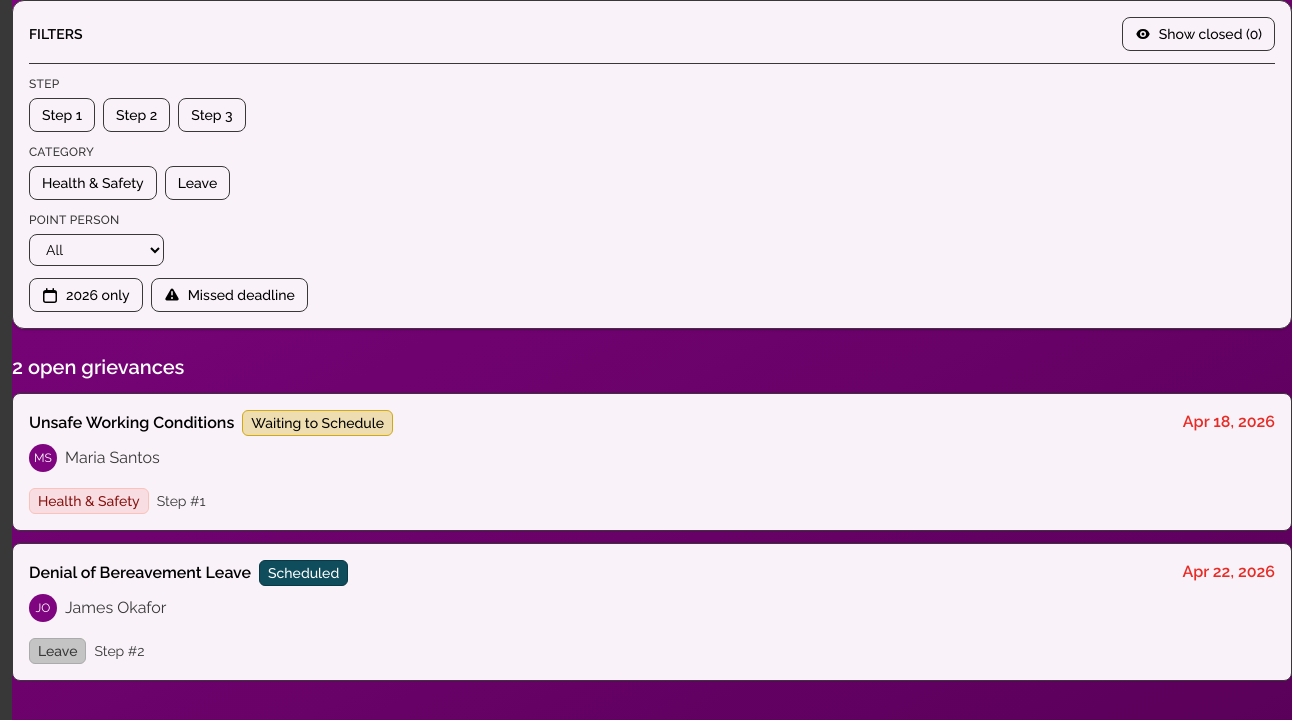
Test: GrievanceFilterView › category filter › filters grievances to the selected category
Step 1. Click the button "Health & Safety" → (93, 183), box [29, 166, 157, 200]
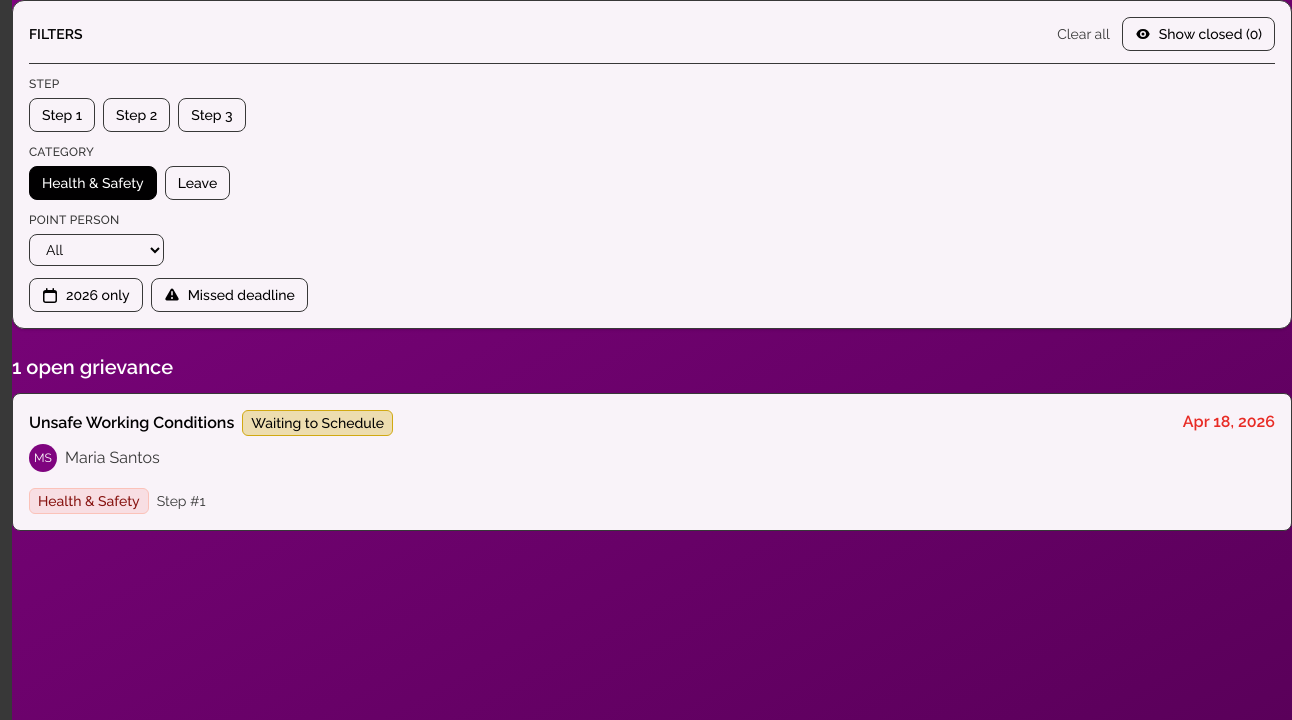
Expected: the heading "Unsafe Working Conditions" is shown, [29, 411, 234, 435]
Expected: the link "Denial of Bereavement Leave" is gone
